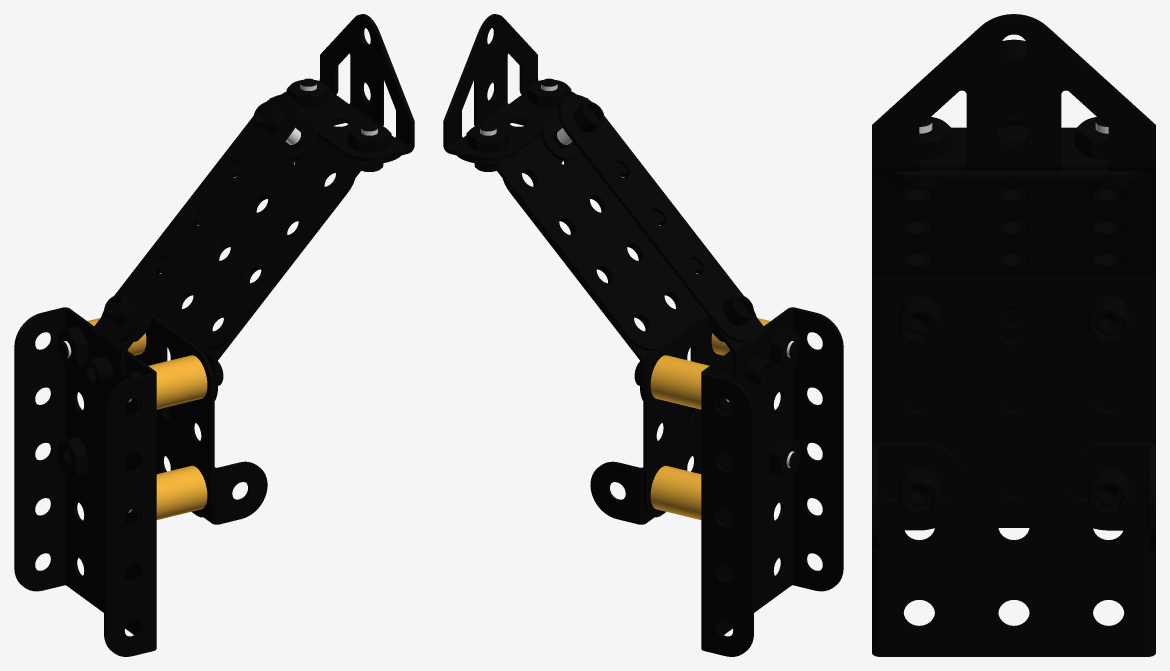
The picture shows the model from 3 angles, left to right: view 1: azimuth 30°, elevation 25°; view 2: azimuth 150°, elevation 25°; view 3: azimuth 270°, elevation 25°; orthographic projection. The views are drawn at different scales.
Parts seen in each view (by area): view 1: polished nickel, matte zinc, matte zinc-4, white-pw-mt11050-2, matte zinc.001; view 2: polished nickel, matte zinc, matte zinc-4, white-pw-mt11050-2, matte zinc.002; view 3: polished nickel, matte zinc-4, matte zinc, matte zinc.002, matte zinc.001.
Part boxes in pixels (x1,y1,x2,y2): polished nickel: (14,307,214,656); matte zinc: (57,14,414,523); matte zinc-4: (152,95,400,400); white-pw-mt11050-2: (87,318,207,519); matte zinc.001: (203,461,267,524); polished nickel: (643,307,843,656); matte zinc: (443,14,800,523); matte zinc-4: (457,95,705,400); white-pw-mt11050-2: (650,318,770,519); matte zinc.002: (590,461,654,524); polished nickel: (872,287,1155,656); matte zinc-4: (872,170,1155,358); matte zinc: (872,14,1155,345); matte zinc.002: (1061,442,1155,552); matte zinc.001: (872,442,966,552).
Size of the model in its own units: 7.43 by 12.35 by 3.81.
